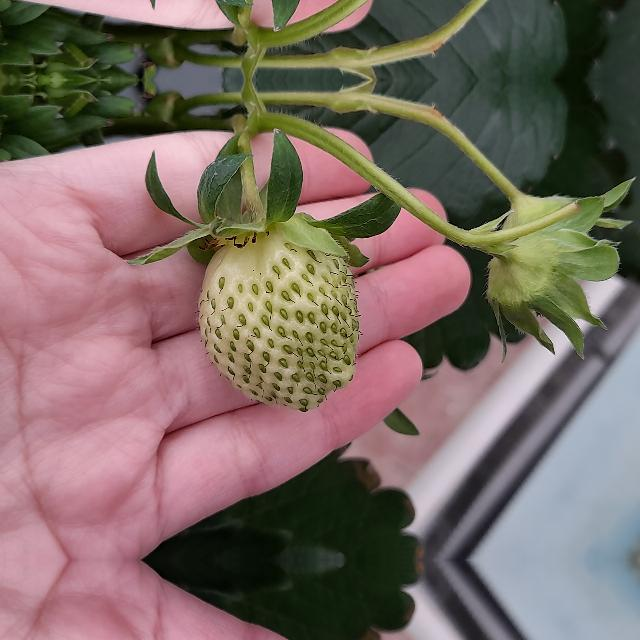Health_25: (196, 222, 360, 412)
